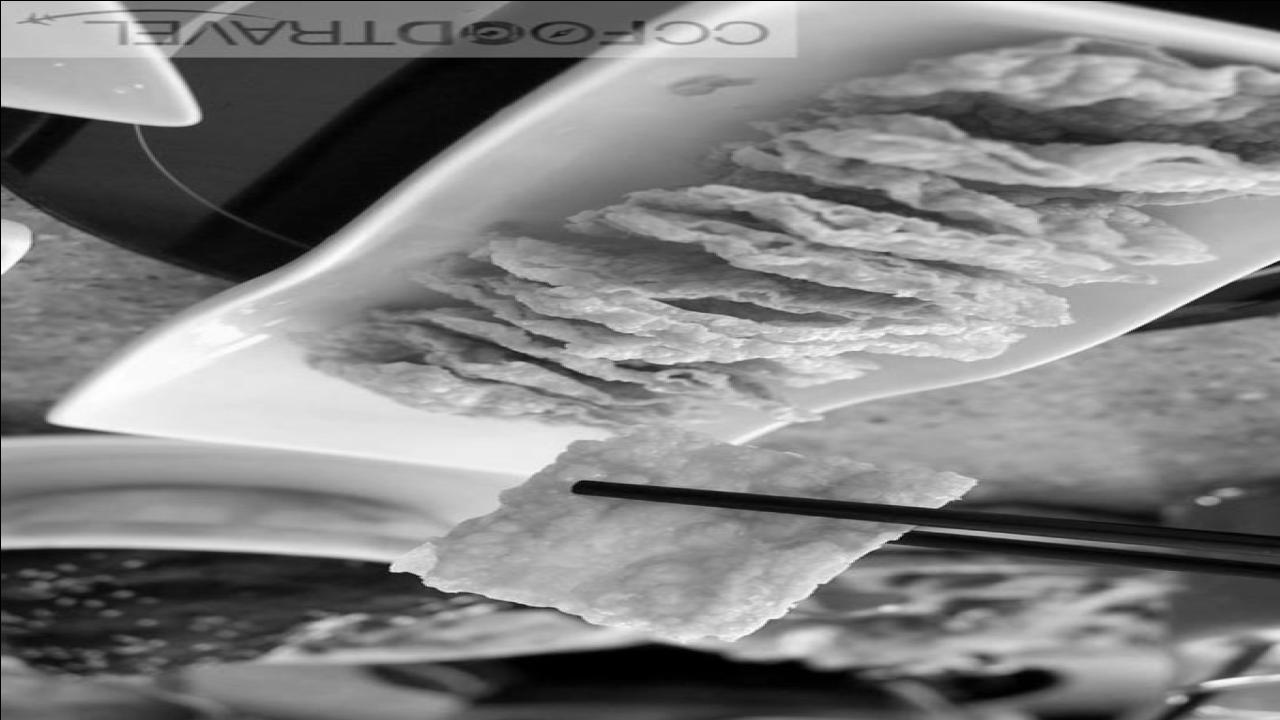chopstick: (572, 478, 1280, 580)
